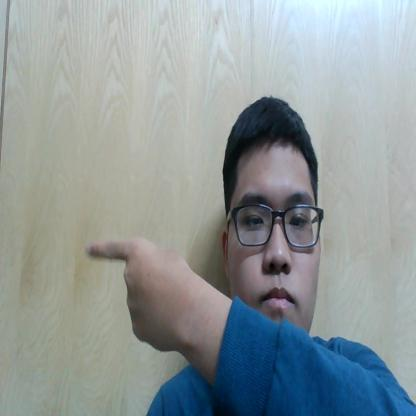right: (77, 223, 206, 376)
